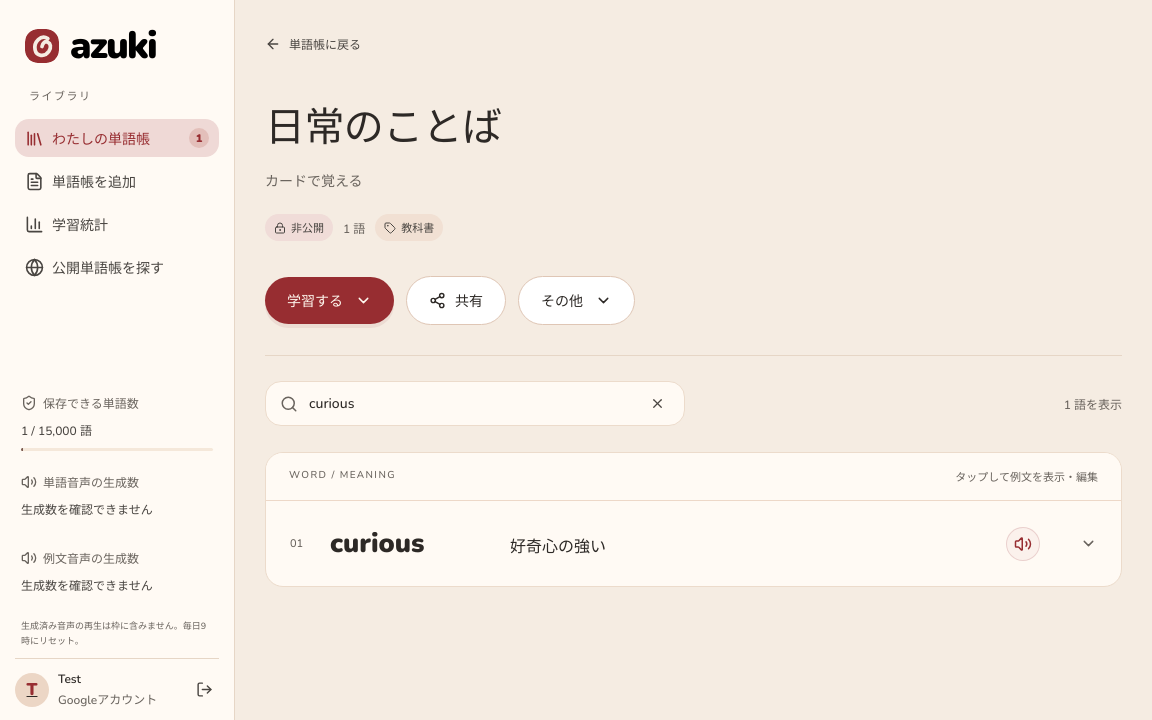
URL navigation › opens a study deep link directly, and restores details through Back and Forward
The image size is (1152, 720).
expect the heading "日常のことば" is shown: met, box [265,101,501,155]
expect the field named "単語・意味を検索" holds "curious": met, box [309,382,634,425]
What coordinates should you click on to do the following:
click the button "学習する"
I would click on:
 (330, 301)
Its box is [265,277,394,324].
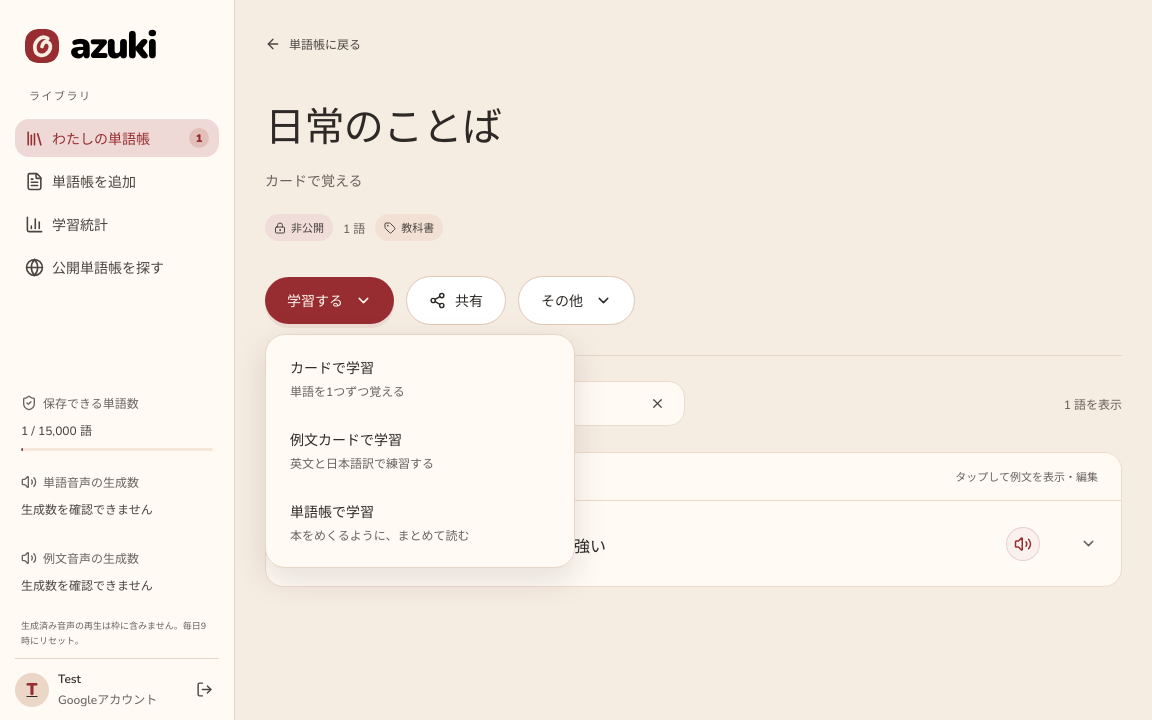
expect the button "カードで学習 単語を1つずつ覚える" is shown: met
What coordinates should you click on to do the following:
click the button "カードで学習 単語を1つずつ覚える"
I would click on:
 (332, 369)
Its box is [274,343,566,415].
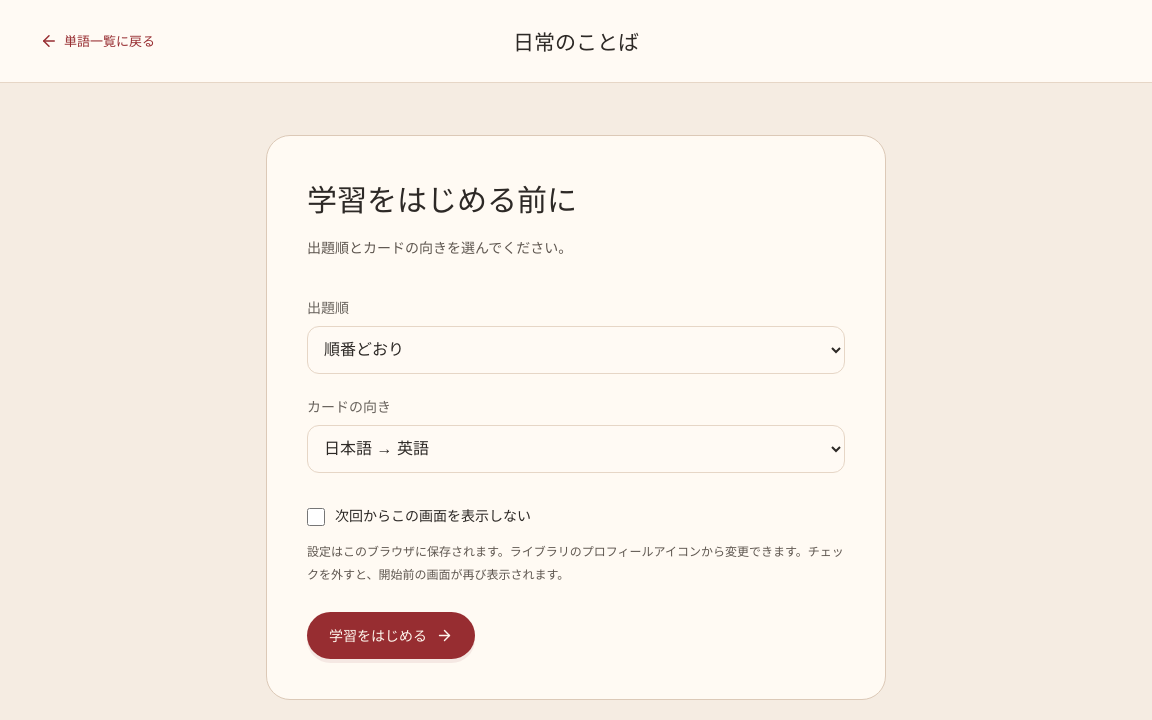
expect the element with class "sidebar" is gone: met
expect the button "学習をはじめる" is shown: met
What coordinates should you click on to do the following:
click the button "学習をはじめる"
I would click on:
 (391, 636)
Its box is [307,612,475,660].
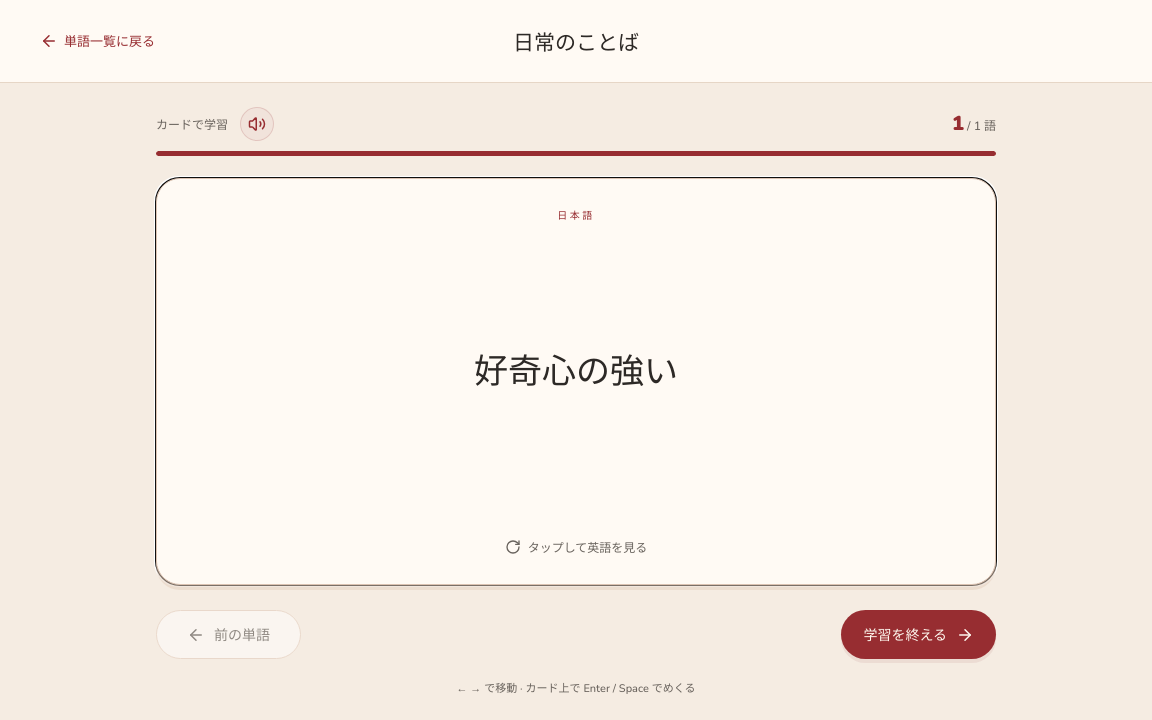
expect the element with class "study-card-face" does not show "curious": met
expect the element with class "study-card-face" shows "好奇心の強い": met, box [474,349,678,395]
